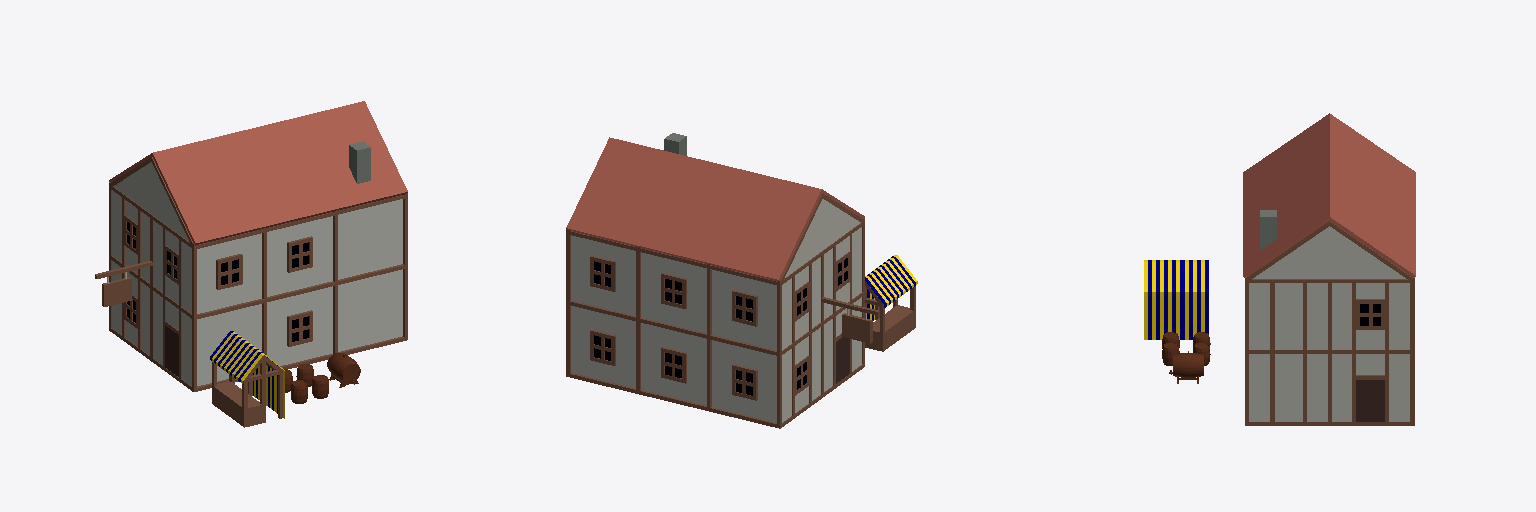
The model's file is timberframedvintner_blue_yellow.obj.
The picture shows the model from 3 angles: view 1: azimuth 30°, elevation 25°; view 2: azimuth 150°, elevation 25°; view 3: azimuth 270°, elevation 25°; orthographic projection.
Parts seen in each view (by area): view 1: Cube.005, Cube.007_Cube.011, Cube.011_Cube.015, Cube.018_Cube.016, Cube.056_Cube.081, barrel_Untitled, Cube.001_Cube.058, Cube.013_Cube.080, Cube.006_Cube.010, Cube.026_Cube.019, Cube.073_Cube.078, Cube.012_Cube.017 (+6 smaller); view 2: Cube.005, Cube.007_Cube.011, Cube.023_Cube.026, Cube.022_Cube.025, Cube.021_Cube.024, Cube.015_Cube.020, Cube.019_Cube.022, Cube.017_Cube.021, Cube.014_Cube.018, Cube.008, Cube.020_Cube.023, Cube.073_Cube.078 (+6 smaller); view 3: Cube.005, Cube.007_Cube.011, Cube.147_Cube.153, Cube.003, Cube.033, barrel_Untitled, Cube.027, Cube.047_Cube.049, Cube.031, Cube.006_Cube.010, Cube.016_Cube.013, Cube.012_Cube.017 (+5 smaller).
Part boxes in pixels (bbox=[...]): Cube.005: bbox=[112, 162, 402, 385]; Cube.007_Cube.011: bbox=[109, 101, 407, 244]; Cube.011_Cube.015: bbox=[195, 264, 406, 319]; Cube.018_Cube.016: bbox=[195, 195, 406, 249]; Cube.056_Cube.081: bbox=[216, 254, 242, 289]; barrel_Untitled: bbox=[327, 353, 360, 387]; Cube.001_Cube.058: bbox=[287, 310, 312, 346]; Cube.013_Cube.080: bbox=[287, 236, 312, 272]; Cube.006_Cube.010: bbox=[349, 141, 370, 183]; Cube.026_Cube.019: bbox=[192, 243, 196, 391]; Cube.073_Cube.078: bbox=[102, 277, 131, 306]; Cube.012_Cube.017: bbox=[403, 193, 407, 339]; Cube.005: bbox=[571, 199, 861, 422]; Cube.007_Cube.011: bbox=[566, 137, 864, 280]; Cube.023_Cube.026: bbox=[567, 373, 776, 427]; Cube.022_Cube.025: bbox=[567, 301, 777, 355]; Cube.021_Cube.024: bbox=[570, 231, 776, 284]; Cube.015_Cube.020: bbox=[732, 290, 757, 326]; Cube.019_Cube.022: bbox=[661, 347, 686, 383]; Cube.017_Cube.021: bbox=[590, 330, 615, 365]; Cube.014_Cube.018: bbox=[661, 273, 686, 308]; Cube.008: bbox=[590, 255, 615, 291]; Cube.020_Cube.023: bbox=[732, 364, 757, 400]; Cube.073_Cube.078: bbox=[842, 313, 872, 343]; Cube.005: bbox=[1249, 226, 1409, 421]; Cube.007_Cube.011: bbox=[1243, 113, 1415, 277]; Cube.147_Cube.153: bbox=[1144, 292, 1208, 339]; Cube.003: bbox=[1356, 380, 1384, 421]; Cube.033: bbox=[1356, 299, 1384, 329]; barrel_Untitled: bbox=[1169, 351, 1203, 383]; Cube.027: bbox=[1410, 277, 1414, 425]; Cube.047_Cube.049: bbox=[1270, 279, 1274, 423]; Cube.031: bbox=[1249, 422, 1410, 425]; Cube.006_Cube.010: bbox=[1260, 210, 1276, 249]; Cube.016_Cube.013: bbox=[1248, 350, 1409, 353]; Cube.012_Cube.017: bbox=[1245, 277, 1248, 425].
Bounding box in the file's own units: 15.3 × 11.25 × 13.34.